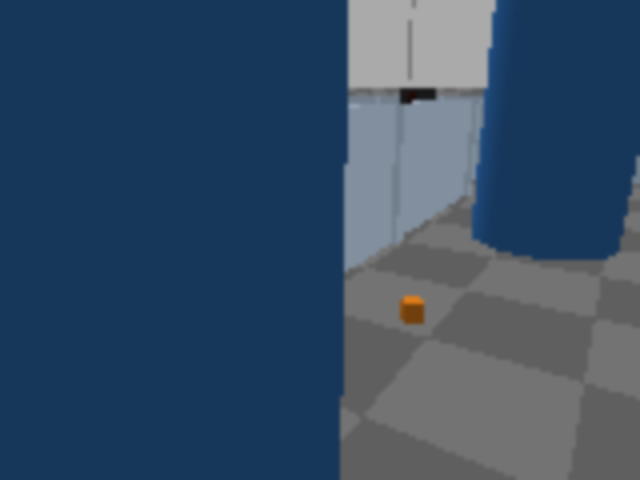obstacle: (172, 224, 243, 287), (209, 157, 229, 179)
puck: (403, 297, 423, 324), (47, 211, 68, 228)
